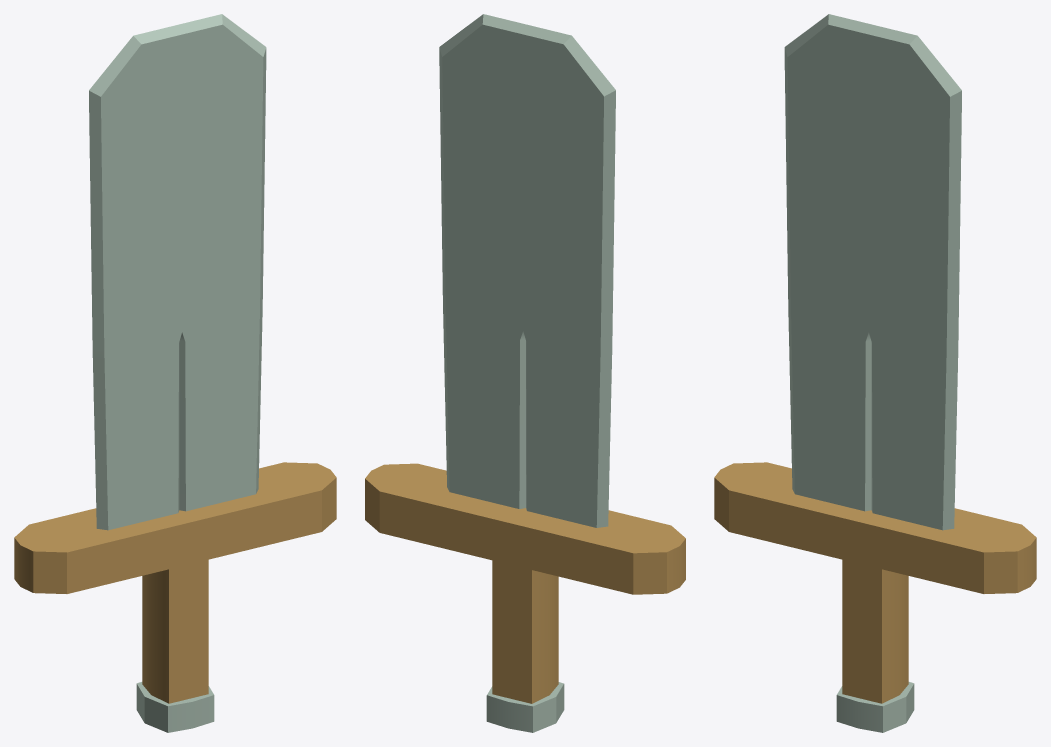
File: SM_Sword_01.fbx
3 renders of one model, left to right at view 1: azimuth 30°, elevation 25°; view 2: azimuth 150°, elevation 25°; view 3: azimuth 330°, elevation 25°, orthographic.
Visible parts, largest first — view 1: SM_Sword_01; view 2: SM_Sword_01; view 3: SM_Sword_01.
Boxes of the visible parts, x1,y1,x2,y2 form: SM_Sword_01: (14, 14, 336, 732); SM_Sword_01: (365, 14, 685, 732); SM_Sword_01: (714, 14, 1036, 732).
Size of the model in its own units: 27.87 by 59.49 by 5.94.
